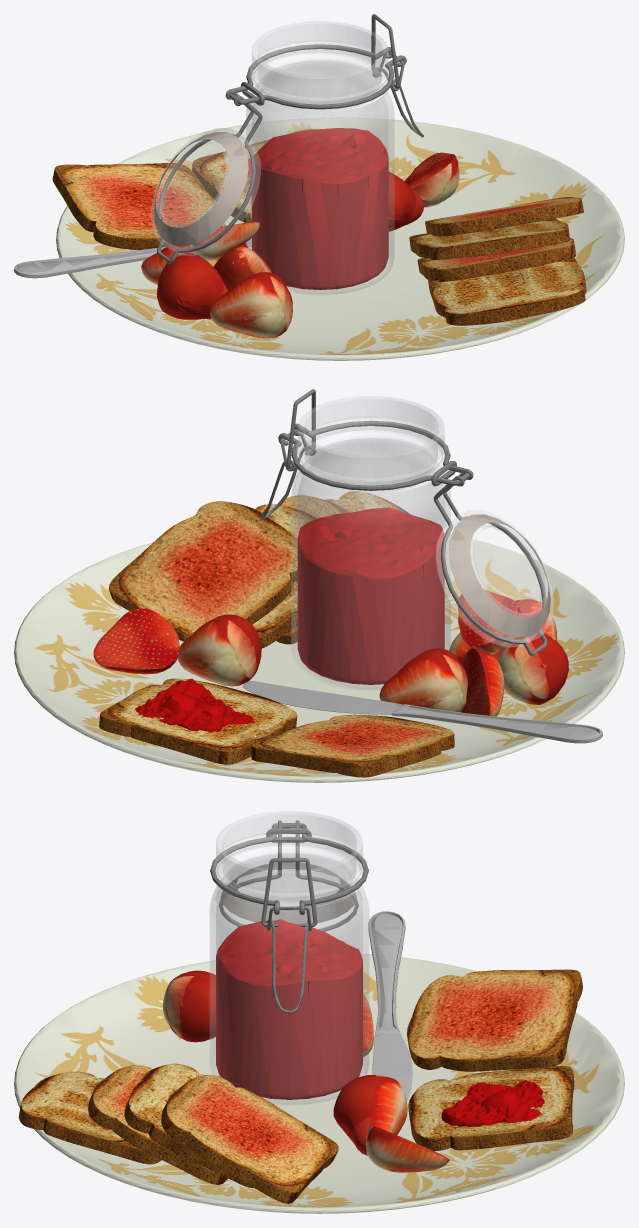
File: toast.glb
3 renders of one model, top to bottom at view 1: azimuth 30°, elevation 25°; view 2: azimuth 150°, elevation 25°; view 3: azimuth 270°, elevation 25°, orthographic. The views are drawn at different scales.
Parts seen in each view (by area): view 1: Material2 (×9); view 2: Material2 (×10); view 3: Material2 (×10).
Part boxes in pixels (left/top/right/bottom): Material2 (×9): left=14, top=14, right=624, bottom=360; Material2 (×10): left=14, top=389, right=624, bottom=782; Material2 (×10): left=14, top=811, right=624, bottom=1213.
Bounding box in the file's own units: 12.17 × 5.38 × 11.11.
Materials: 11 (5 with a texture image).
